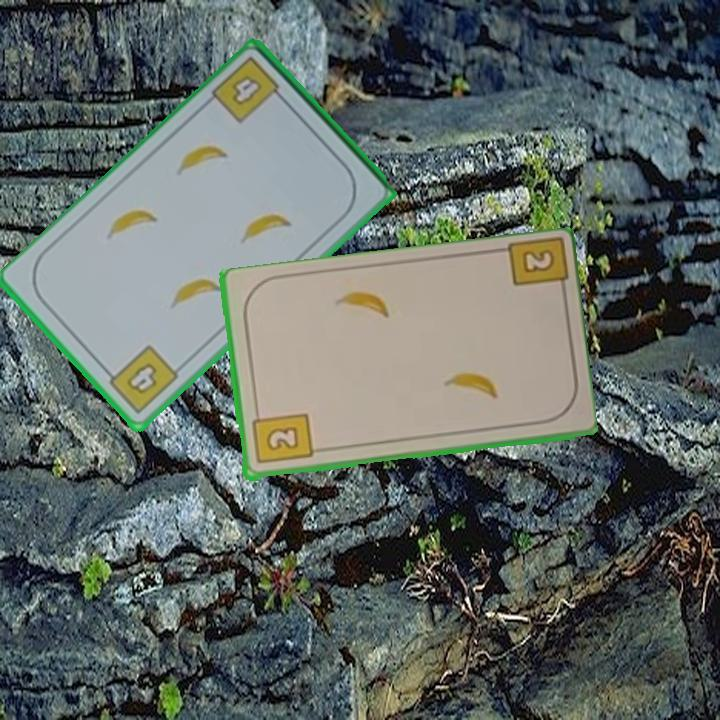2b: (501, 236, 569, 302), (248, 406, 314, 468)
4b: (100, 341, 182, 417), (208, 53, 290, 127)
